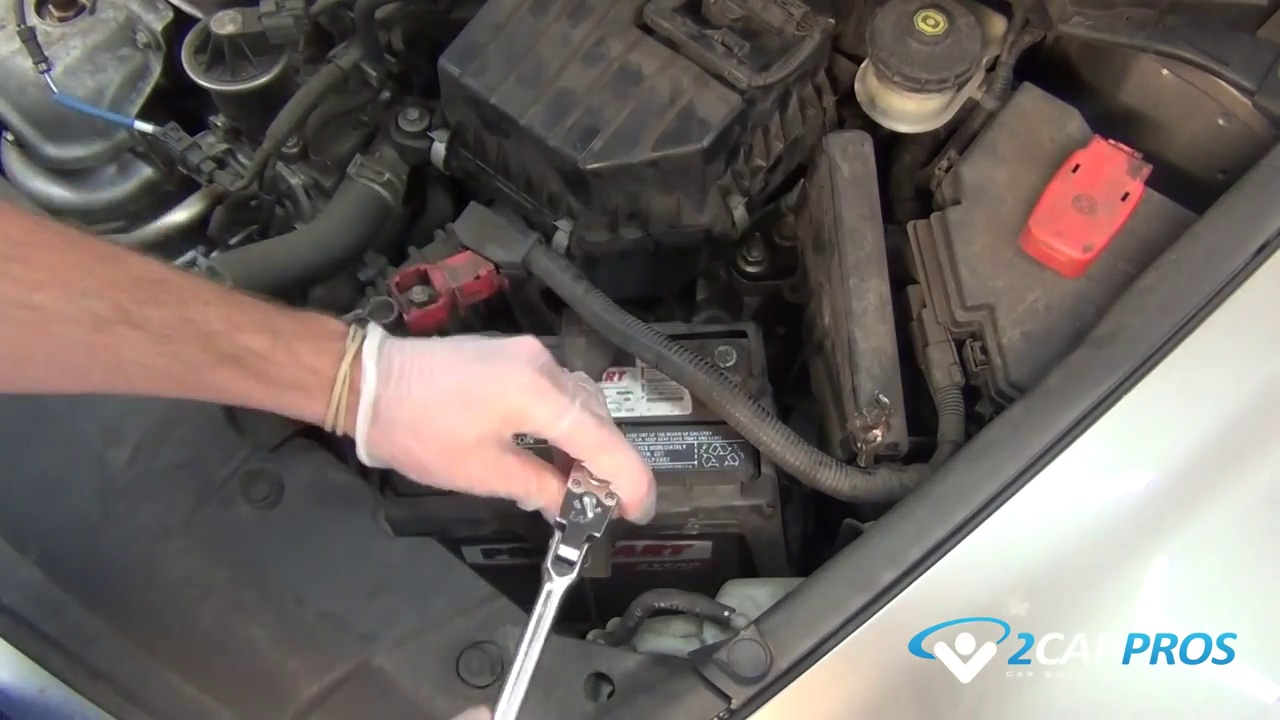battery: (385, 327, 774, 527)
neg_disconnected: (690, 314, 758, 402)
pos_touched: (383, 245, 512, 404)
